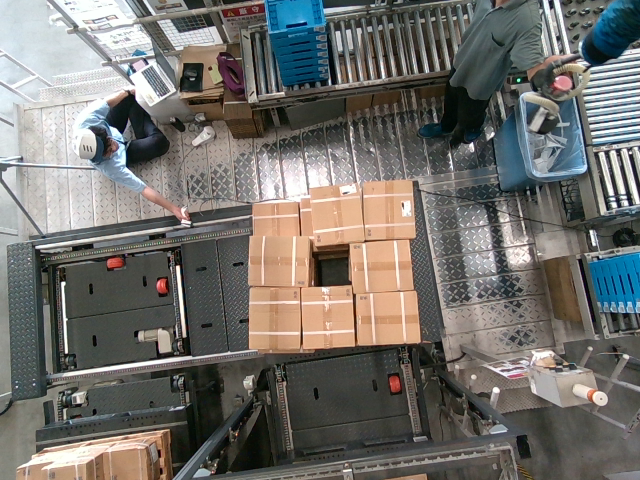box: (247, 235, 308, 287), (349, 241, 410, 293), (357, 293, 418, 345), (362, 178, 412, 240), (309, 184, 359, 246), (249, 289, 299, 351), (301, 287, 351, 349)
